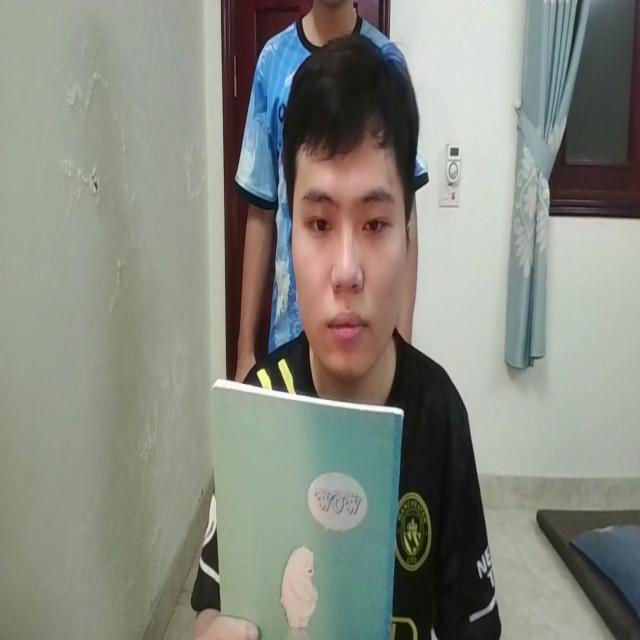book: (211, 366, 403, 640)
student: (198, 37, 502, 640)
